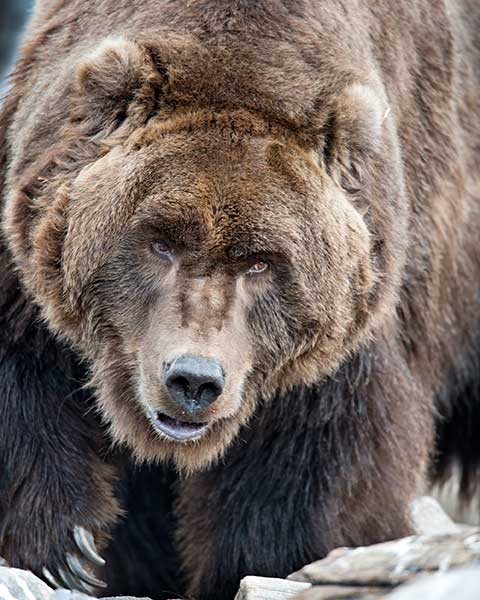bear: (6, 34, 382, 473)
